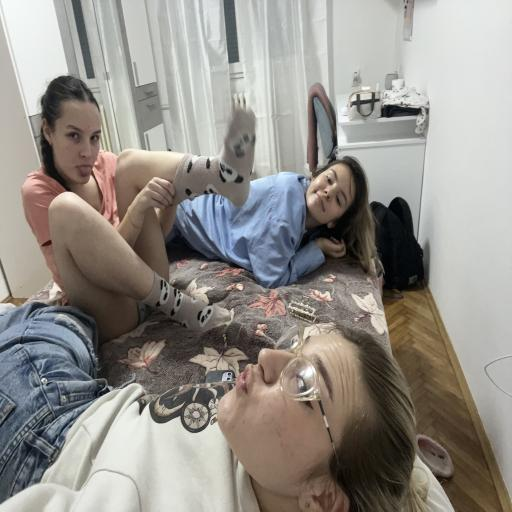marija: (52, 95, 102, 185)
